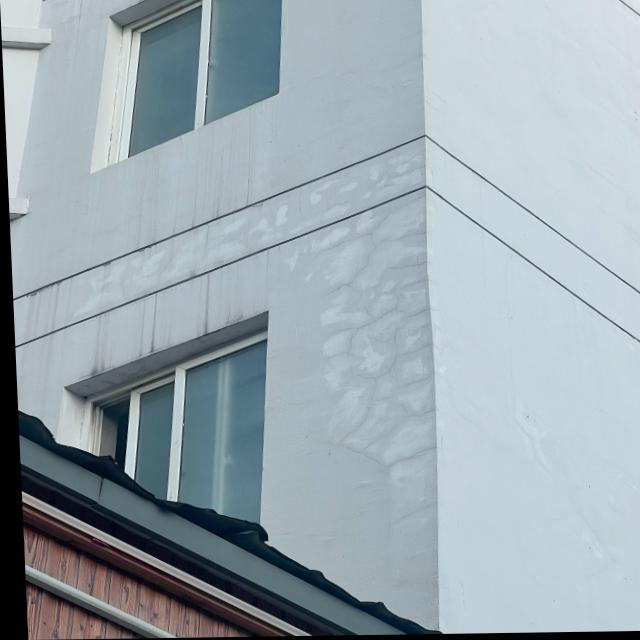crack: (318, 426, 441, 478)
damp: (477, 379, 637, 586)
spalling: (75, 141, 421, 323), (297, 191, 437, 418)
